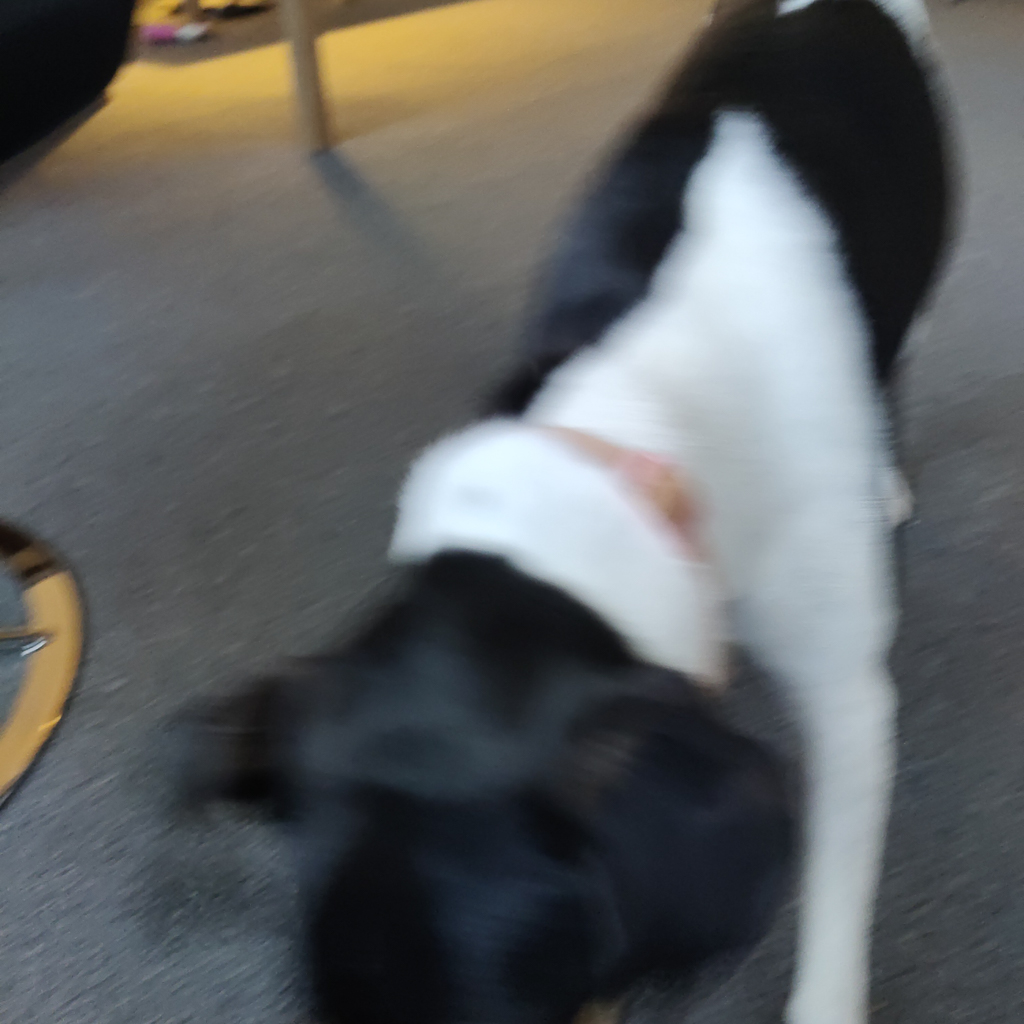Dog: (86, 0, 1003, 1024)
